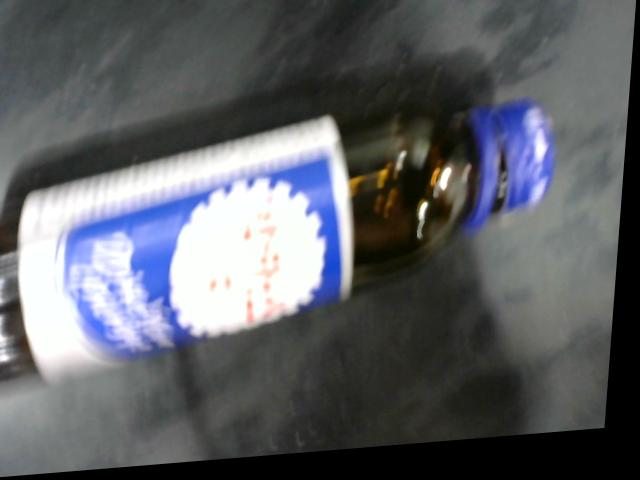glass: (0, 105, 562, 399)
